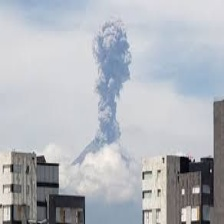smoke: (86, 21, 133, 138)
